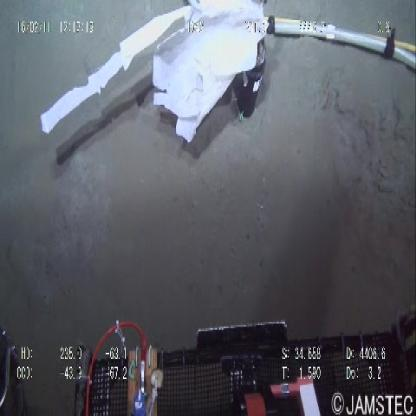Rov: (72, 308, 415, 415)
Rác: (38, 2, 270, 158)
